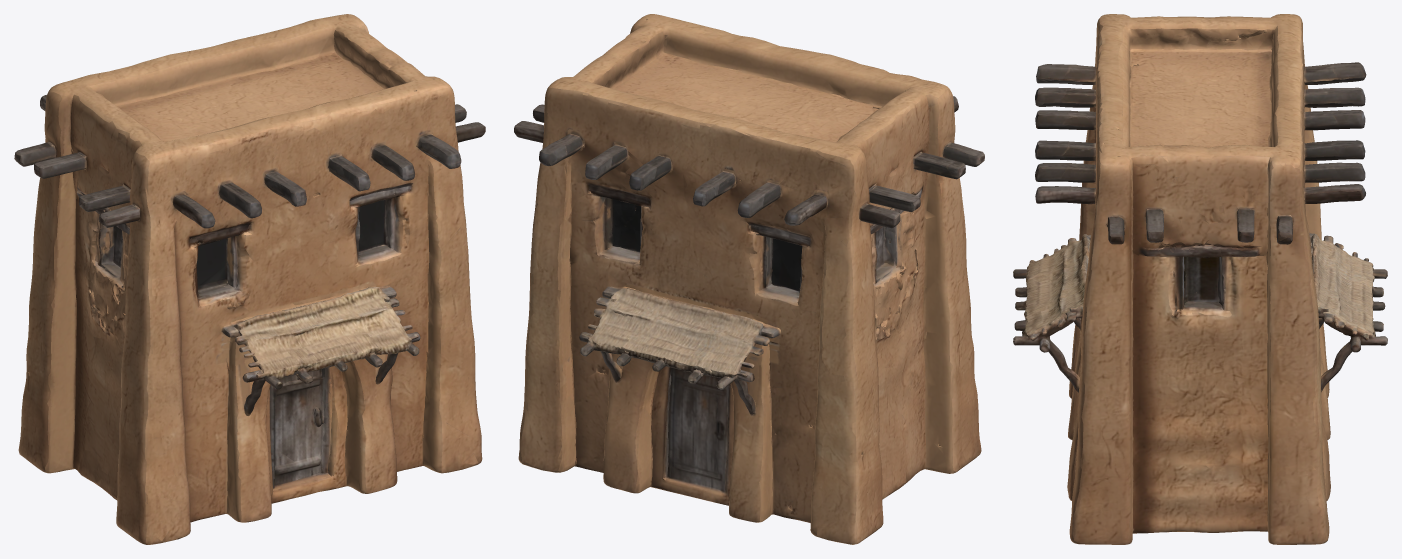
File: mali_house_glb.glb
3 views of the same model, side by side, from view 1: azimuth 30°, elevation 25°; view 2: azimuth 150°, elevation 25°; view 3: azimuth 270°, elevation 25° (orthographic).
Parts seen in each view (by area): view 1: geometry_0; view 2: geometry_0; view 3: geometry_0.
Part boxes in pixels (<box>): geometry_0: <box>14,14,485,544</box>; geometry_0: <box>514,14,984,544</box>; geometry_0: <box>1013,14,1387,544</box>.
Bounding box in the file's own units: 0.3693 × 0.35 × 0.313.
1 material, 1 textured.
